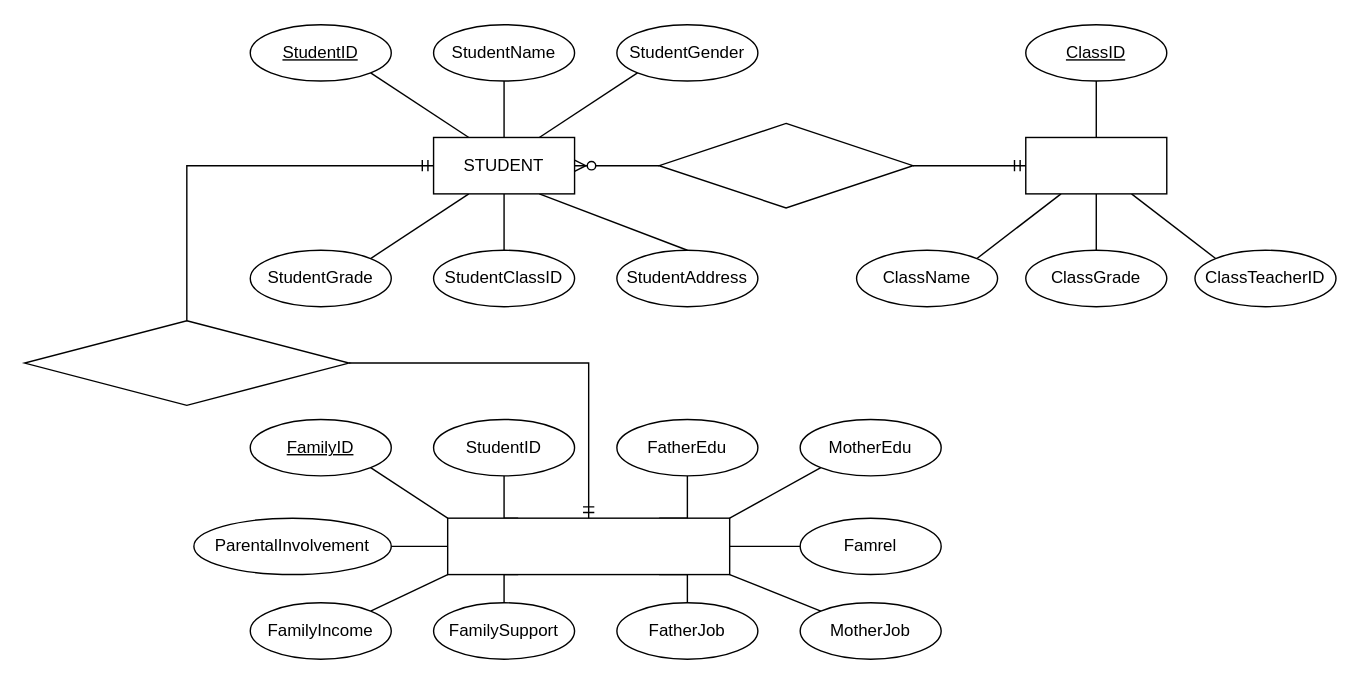
Image size: 1361x684. Some labels were removed from this diagram. The box of each missing label's shape, as (x1, y1, x2, y2) in pixels:
CLASS: (1024, 136, 1167, 194)
FAMILY_BACKGROUND: (446, 517, 730, 575)
StudentHasFamilyBackground: (23, 319, 349, 405)
StudentStudyInClass: (658, 122, 913, 208)
